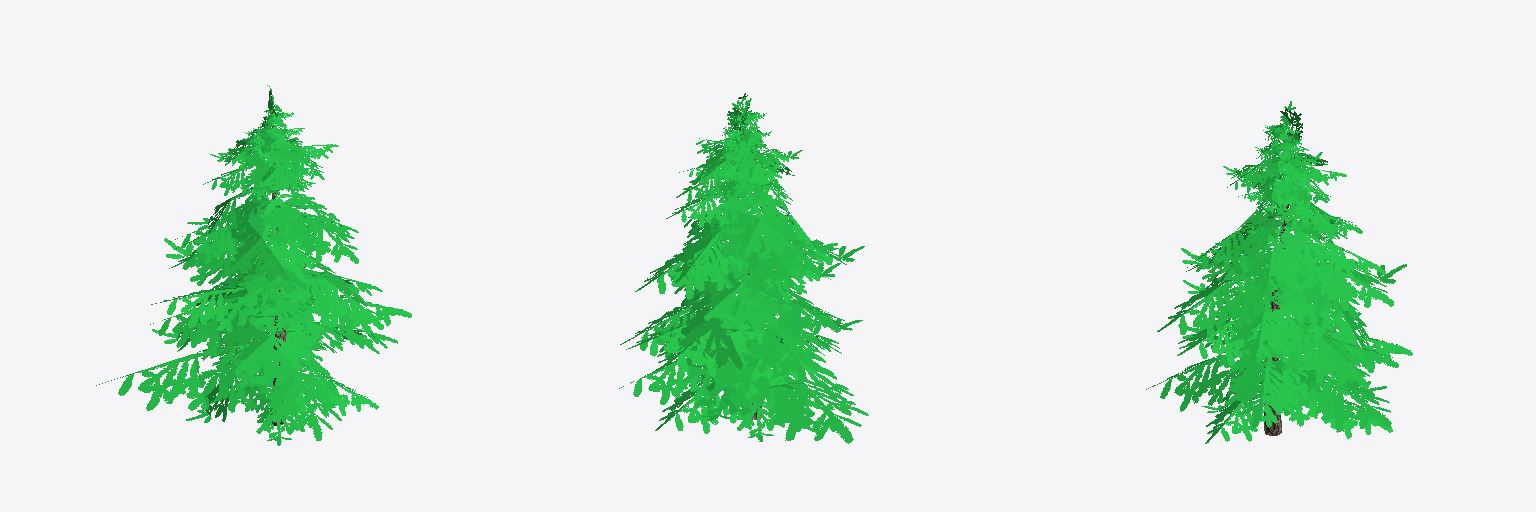
3 views of the same model, side by side, from view 1: azimuth 30°, elevation 25°; view 2: azimuth 150°, elevation 25°; view 3: azimuth 270°, elevation 25° (orthographic).
Visible parts, largest first — view 1: tree_large_pine.012_tree_pine_joined.021; view 2: tree_large_pine.012_tree_pine_joined.021; view 3: tree_large_pine.012_tree_pine_joined.021.
Part boxes in pixels (left/top/right/bottom): tree_large_pine.012_tree_pine_joined.021: left=96, top=85, right=411, bottom=445; tree_large_pine.012_tree_pine_joined.021: left=619, top=93, right=868, bottom=443; tree_large_pine.012_tree_pine_joined.021: left=1146, top=101, right=1412, bottom=443.
Bounding box in the file's own units: 403 × 444 × 367.
2 materials, 2 textured.